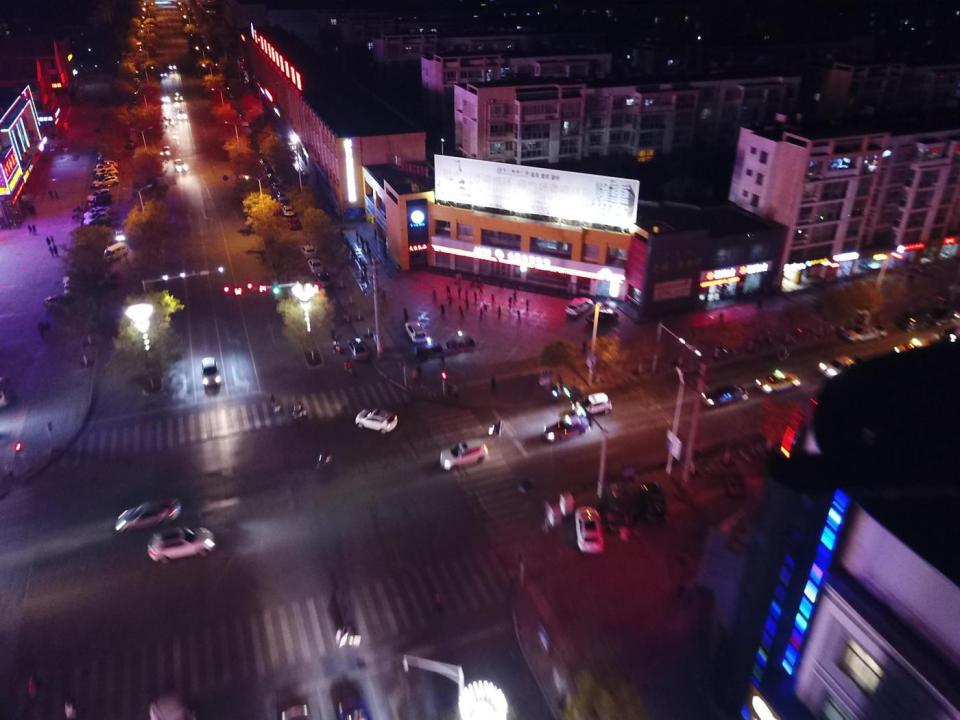bus: (134, 42, 142, 51)
car: (146, 527, 214, 562), (115, 497, 180, 529), (330, 677, 371, 720), (438, 439, 488, 470), (574, 506, 604, 555), (699, 383, 749, 408), (544, 415, 590, 442), (355, 409, 397, 435), (754, 370, 800, 392), (900, 308, 946, 330), (818, 355, 860, 379), (840, 322, 888, 342), (643, 482, 665, 521), (893, 336, 931, 356), (724, 467, 745, 498), (41, 294, 78, 310), (586, 308, 619, 325), (404, 320, 426, 343), (565, 297, 593, 315), (348, 336, 368, 360), (86, 188, 111, 200), (92, 176, 118, 187), (84, 206, 112, 216), (307, 258, 324, 274), (83, 213, 110, 223), (88, 196, 111, 207), (86, 219, 110, 229), (301, 244, 317, 259), (64, 284, 85, 295), (95, 273, 116, 284), (96, 160, 117, 170), (174, 158, 188, 173), (317, 274, 332, 288), (62, 274, 82, 284), (95, 173, 117, 182), (94, 164, 115, 173), (288, 217, 301, 230), (114, 229, 125, 241), (914, 263, 926, 274), (276, 190, 287, 201), (283, 204, 294, 215), (176, 109, 187, 118), (98, 154, 114, 160), (161, 146, 170, 156), (272, 180, 280, 191), (124, 139, 133, 148), (174, 92, 183, 101), (165, 117, 173, 127), (264, 166, 274, 174), (240, 118, 249, 126), (162, 94, 170, 102), (259, 158, 267, 166), (168, 62, 176, 69), (160, 69, 167, 77), (228, 92, 236, 99), (127, 68, 138, 73), (129, 88, 138, 94), (125, 76, 138, 80), (130, 98, 136, 105), (128, 82, 138, 86), (62, 146, 68, 152), (243, 79, 249, 84), (50, 145, 54, 151), (196, 21, 200, 27), (201, 34, 205, 38), (193, 15, 196, 19)
van: (576, 391, 612, 415), (202, 357, 220, 386), (103, 242, 128, 259)
